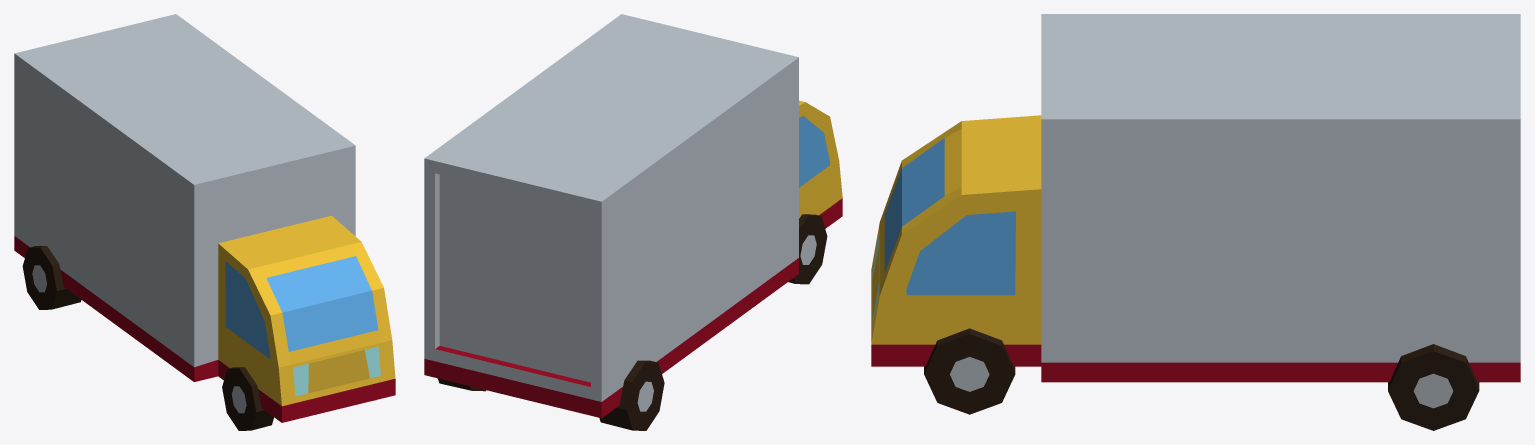
File: transportation_and_warehousing.gltf
3 views of the same model, side by side, from view 1: azimuth 30°, elevation 25°; view 2: azimuth 150°, elevation 25°; view 3: azimuth 270°, elevation 25° (orthographic). The views are drawn at different scales.
Parts seen in each view (by area): view 1: Transportation and Warehousing; view 2: Transportation and Warehousing; view 3: Transportation and Warehousing.
Boxes of the visible parts, x1,y1,x2,y2 form: Transportation and Warehousing: (14, 14, 395, 430); Transportation and Warehousing: (424, 14, 842, 430); Transportation and Warehousing: (871, 14, 1520, 430).
Size of the model in its own units: 0.6295 by 0.7703 by 1.47.
1 material, 1 textured.
